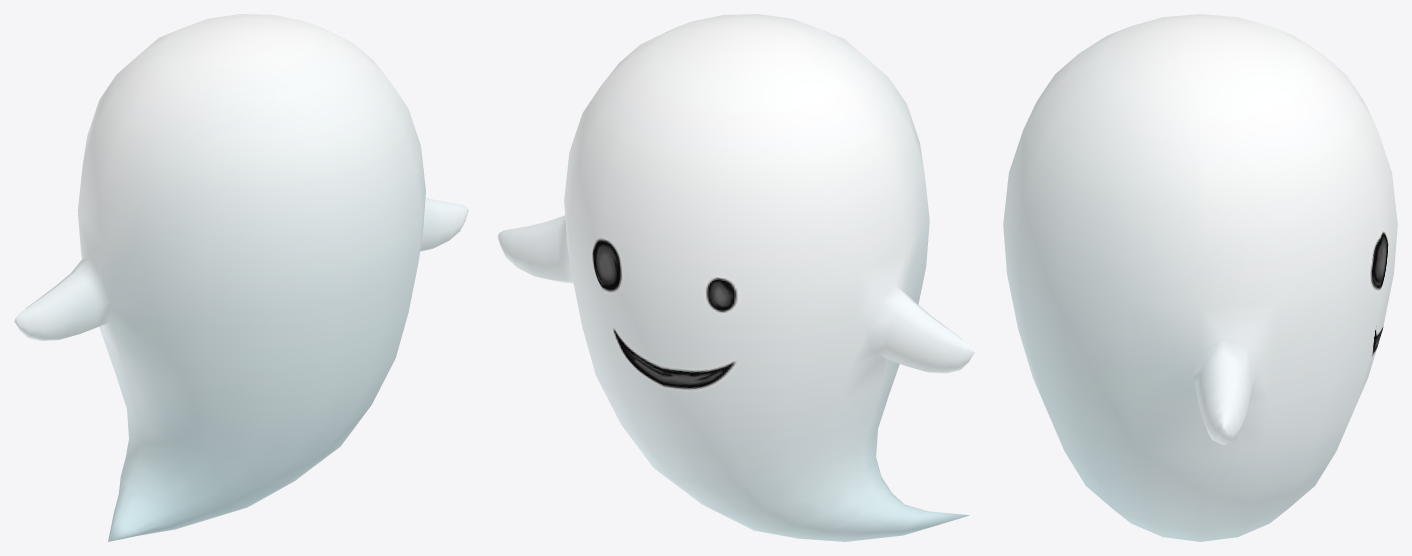
File: HalloweenItem_Ghost01.glb
3 renders of one model, left to right at view 1: azimuth 30°, elevation 25°; view 2: azimuth 150°, elevation 25°; view 3: azimuth 270°, elevation 25°, orthographic. The views are drawn at different scales.
Parts seen in each view (by area): view 1: HalloweenItem_Ghost01(Clone); view 2: HalloweenItem_Ghost01(Clone); view 3: HalloweenItem_Ghost01(Clone).
Part boxes in pixels (x1,y1,x2,y2): HalloweenItem_Ghost01(Clone): (14,14,468,541); HalloweenItem_Ghost01(Clone): (497,14,974,541); HalloweenItem_Ghost01(Clone): (1003,14,1397,541).
Size of the model in its own units: 0.2697 by 0.2624 by 0.1806.
1 material, 1 textured.
